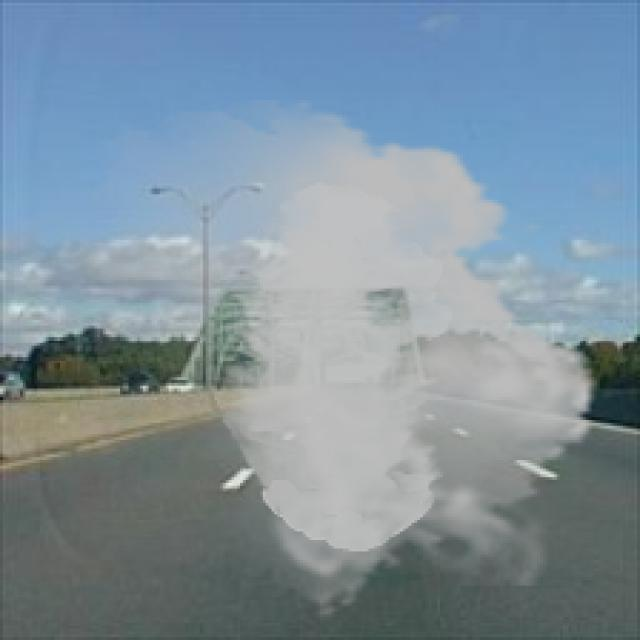Smoke: (65, 100, 618, 620)
